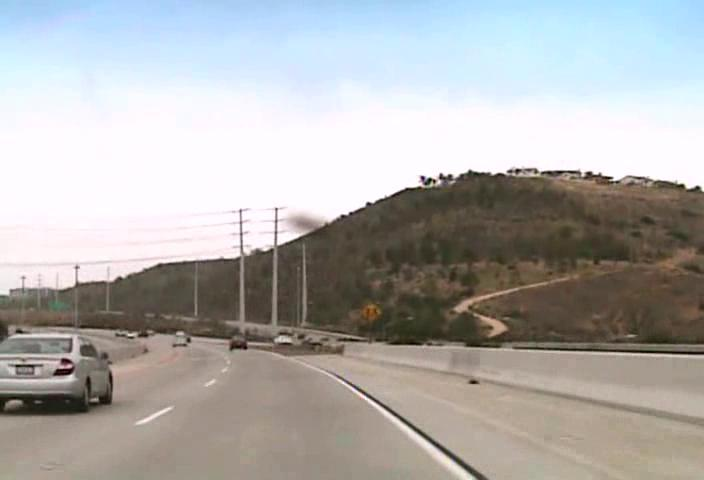addedLane: (358, 300, 384, 324)
